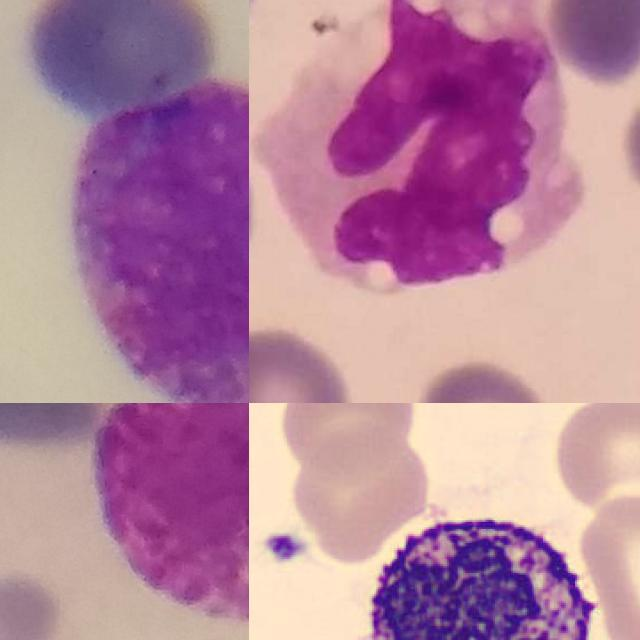Basophil: (70, 81, 249, 403), (344, 493, 607, 640), (90, 403, 249, 626)
Monocyte: (272, 0, 582, 292)
Platelets: (257, 529, 308, 566)
RBC: (550, 403, 640, 520), (274, 403, 418, 474), (578, 490, 640, 640)
